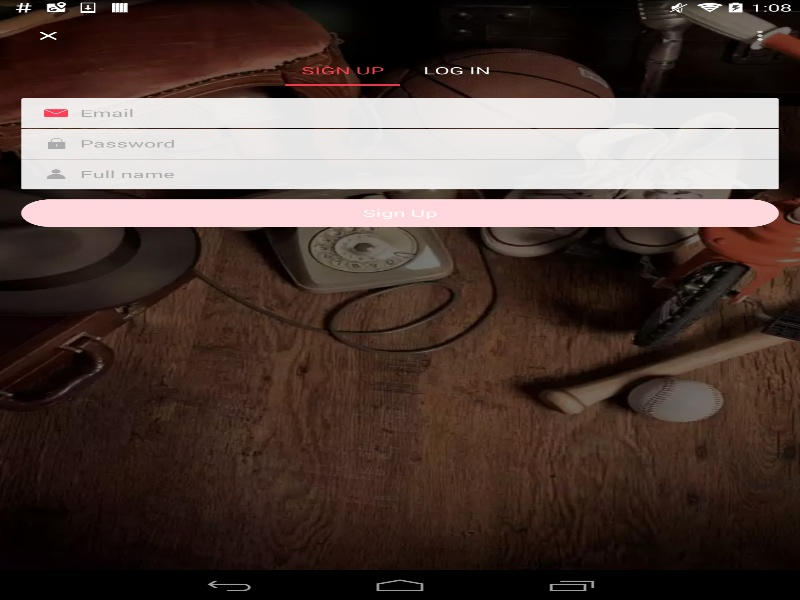Button: (21, 199, 778, 226), (10, 15, 85, 55)
Input: (21, 98, 778, 128), (21, 128, 778, 158), (21, 159, 778, 189)
